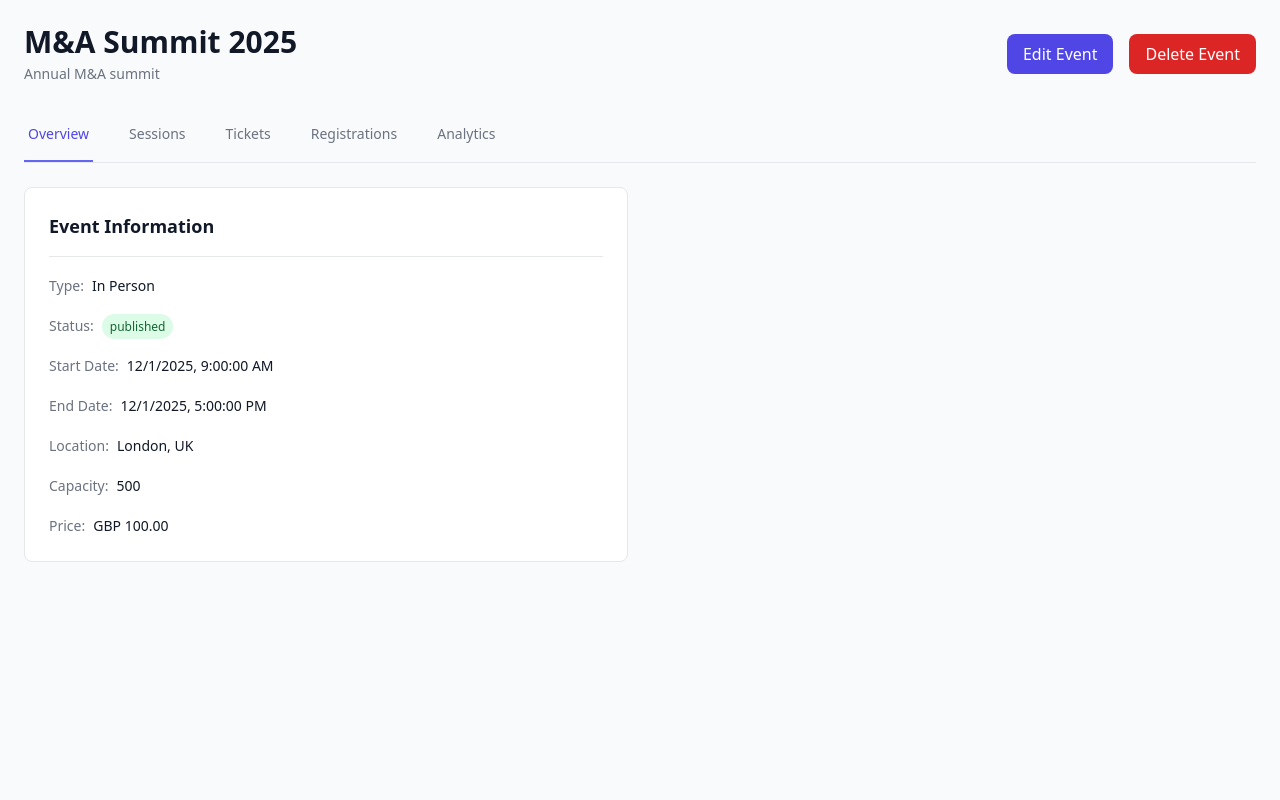
EventDetails › should load and display tickets when tickets tab clicked
This screenshot has width=1280, height=800.
Expected: the heading "M&A Summit 2025" is shown, [24,24,297,60]
// Click tickets tab
Step 1. Click the button "Tickets" → (248, 135), box [222,108,275,162]
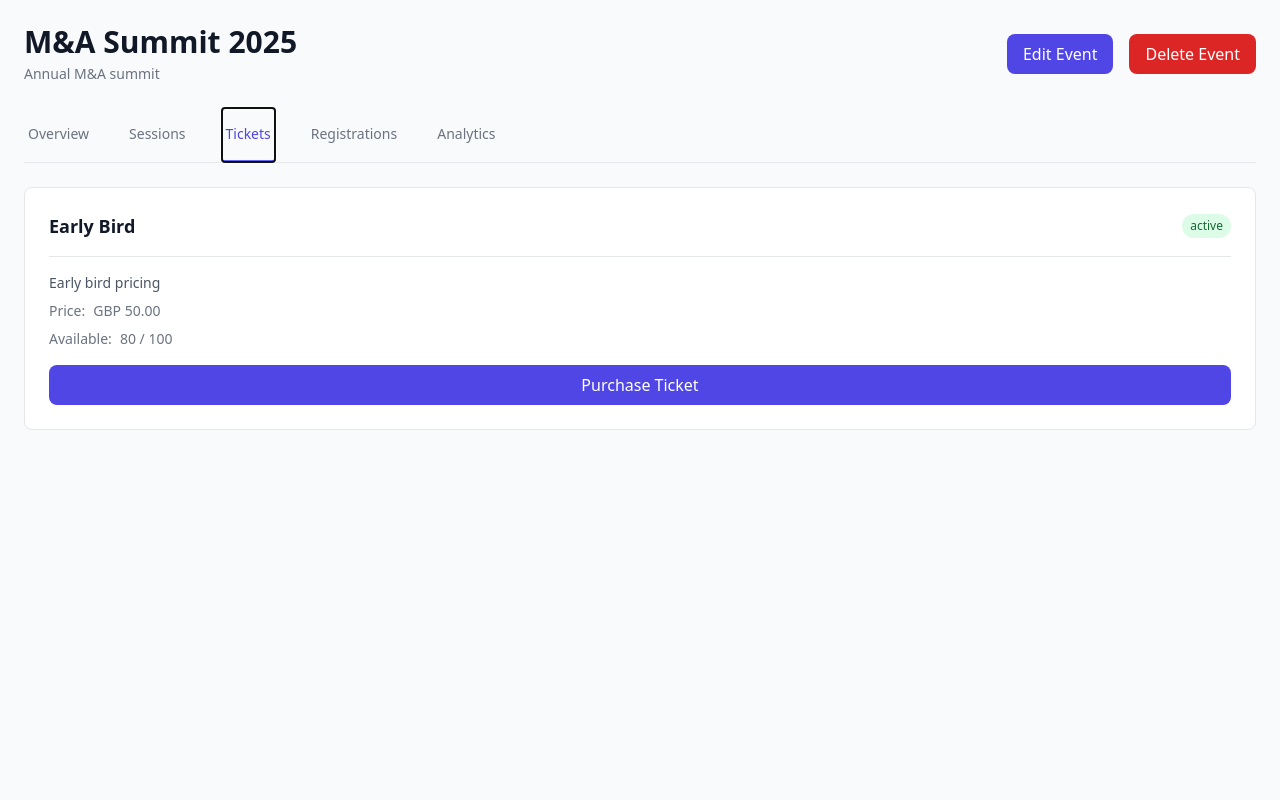
Expected: the heading "Early Bird" is shown, [49,212,135,240]
